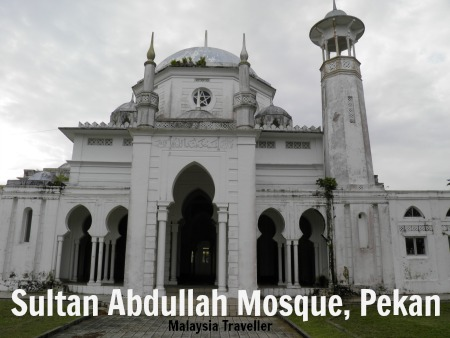Mosque: (8, 1, 442, 294)
